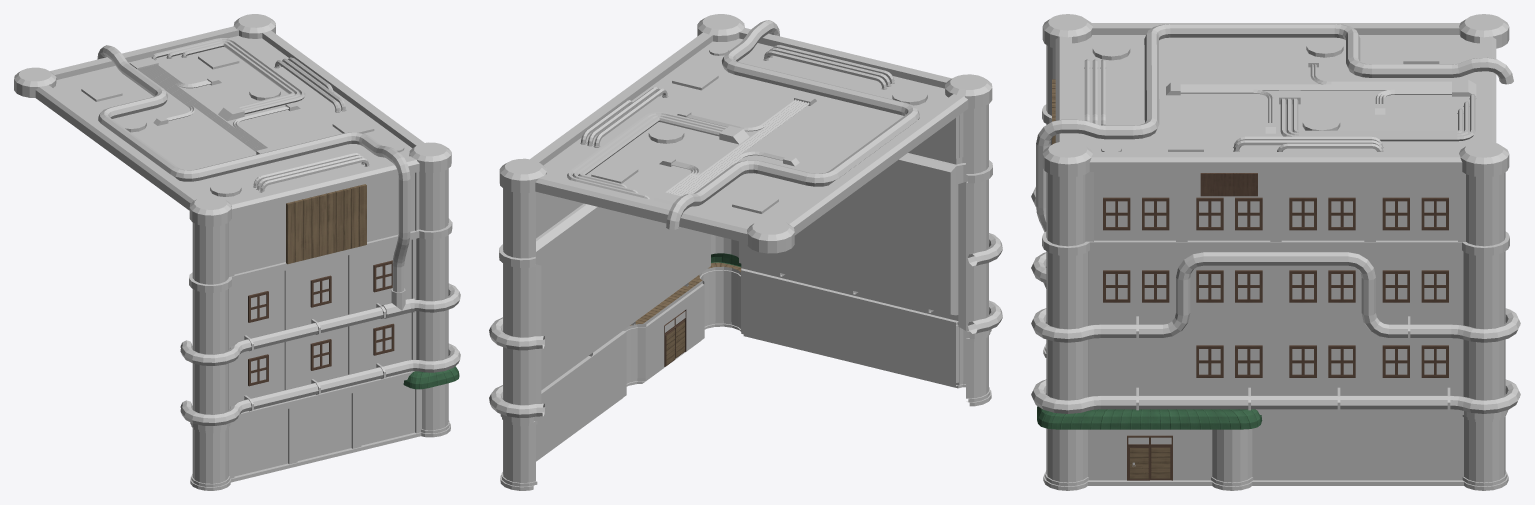
Rendered from REDUCTION_SM_ENV_KNVLLG_CommonBuilding_F_2.mo.fbx.
The picture shows the model from 3 angles, left to right: view 1: azimuth 30°, elevation 25°; view 2: azimuth 150°, elevation 25°; view 3: azimuth 270°, elevation 25°; orthographic projection. The views are drawn at different scales.
Visible parts, largest first — view 1: REDUCTION_SM_ENV_KNVLLG_CommonBuilding_F_2.mo; view 2: REDUCTION_SM_ENV_KNVLLG_CommonBuilding_F_2.mo; view 3: REDUCTION_SM_ENV_KNVLLG_CommonBuilding_F_2.mo.
Boxes of the visible parts, x1,y1,x2,y2 form: REDUCTION_SM_ENV_KNVLLG_CommonBuilding_F_2.mo: (14,14,460,490); REDUCTION_SM_ENV_KNVLLG_CommonBuilding_F_2.mo: (489,14,1002,490); REDUCTION_SM_ENV_KNVLLG_CommonBuilding_F_2.mo: (1031,14,1520,490).
Size of the model in its own units: 25.89 by 26.03 by 33.95.
